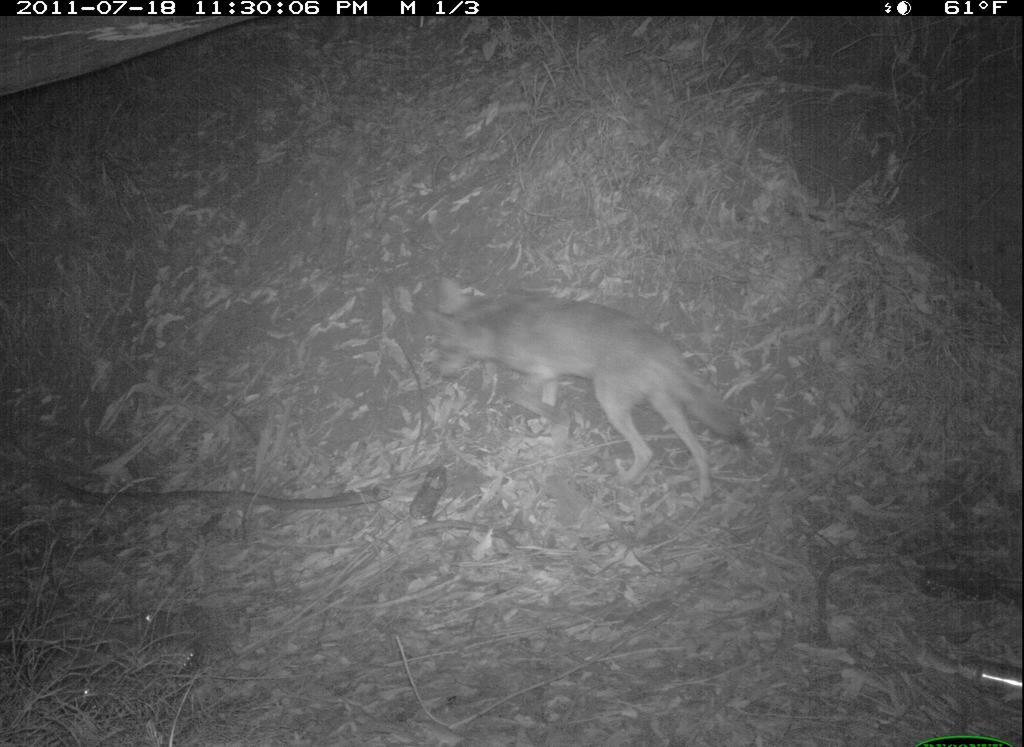coyote: (363, 259, 783, 550)
